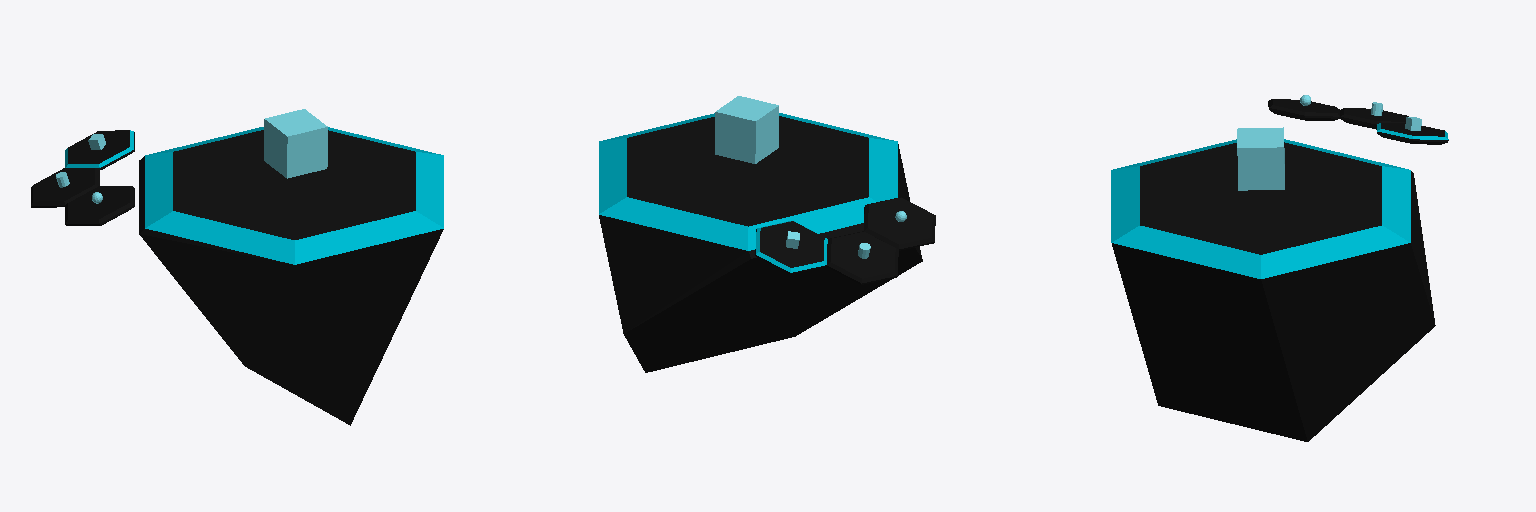
The picture shows the model from 3 angles: view 1: azimuth 30°, elevation 25°; view 2: azimuth 150°, elevation 25°; view 3: azimuth 270°, elevation 25°; orthographic projection.
Parts seen in each view (by area): view 1: group[number redacted], group[number redacted], group[number redacted], group[number redacted], group[number redacted]; view 2: group[number redacted], group[number redacted], group[number redacted], group[number redacted], group[number redacted]; view 3: group[number redacted], group[number redacted], group[number redacted], group[number redacted], group[number redacted].
Part boxes in pixels (left/top/right/bottom): group[number redacted]: left=139, top=127, right=443, bottom=425; group[number redacted]: left=264, top=109, right=327, bottom=178; group[number redacted]: left=65, top=186, right=134, bottom=225; group[number redacted]: left=65, top=130, right=134, bottom=169; group[number redacted]: left=31, top=168, right=99, bottom=207; group[number redacted]: left=599, top=113, right=922, bottom=372; group[number redacted]: left=715, top=96, right=778, bottom=163; group[number redacted]: left=864, top=197, right=935, bottom=250; group[number redacted]: left=826, top=231, right=898, bottom=284; group[number redacted]: left=755, top=221, right=827, bottom=274; group[number redacted]: left=1111, top=139, right=1435, bottom=441; group[number redacted]: left=1237, top=127, right=1284, bottom=190; group[number redacted]: left=1268, top=99, right=1339, bottom=120; group[number redacted]: left=1376, top=123, right=1448, bottom=144; group[number redacted]: left=1340, top=108, right=1408, bottom=128.
Bounding box in the file's own units: 0.7062 × 0.5036 × 0.5765.